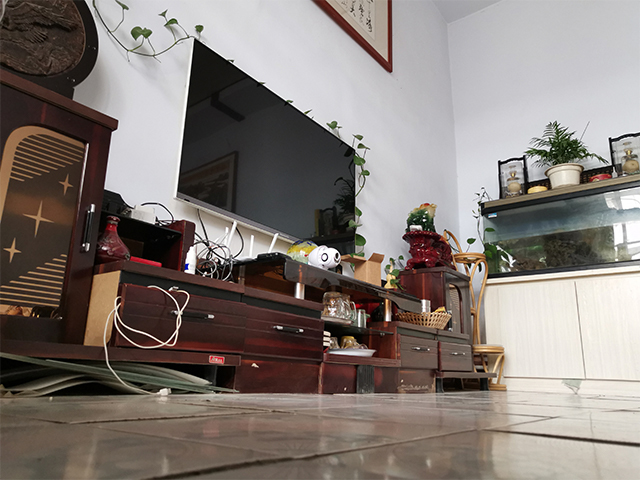cabinet: (96, 253, 499, 395), (485, 264, 640, 398)
wire: (101, 284, 190, 398)
